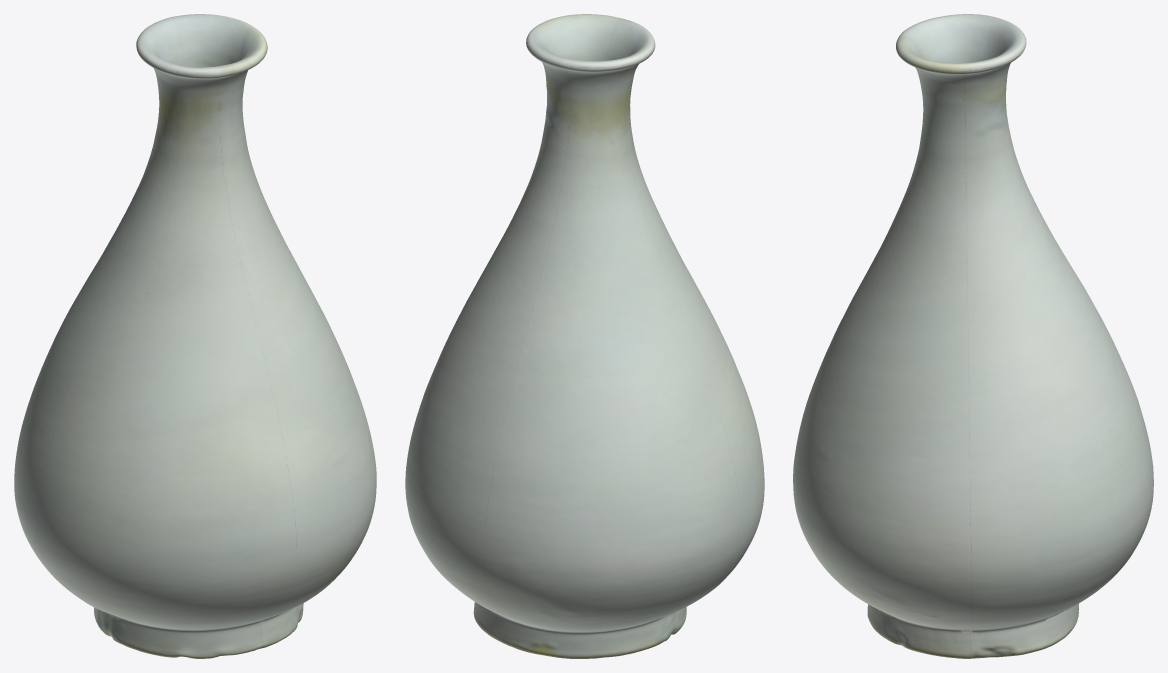
Rendered from white-porcelain-bottle.glb.
3 views of the same model, side by side, from view 1: azimuth 30°, elevation 25°; view 2: azimuth 150°, elevation 25°; view 3: azimuth 270°, elevation 25° (orthographic).
Visible parts, largest first — view 1: ssu012371-000-30000; view 2: ssu012371-000-30000; view 3: ssu012371-000-30000.
Boxes of the visible parts, box(x1,y1,x2,y2) form: ssu012371-000-30000: box(14, 14, 376, 658); ssu012371-000-30000: box(405, 14, 764, 658); ssu012371-000-30000: box(793, 14, 1153, 658).
Bounding box in the file's own units: 0.8819 × 1.56 × 0.8822.
Materials: 1 (1 with a texture image).
